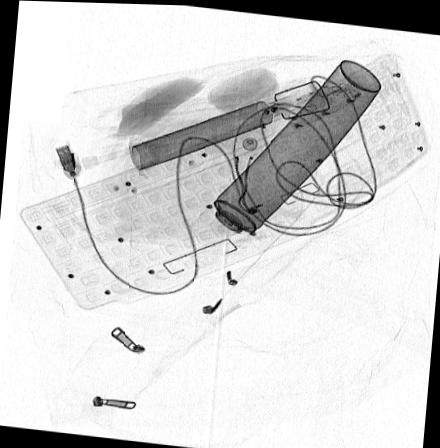Sprayer: (190, 59, 380, 246)
